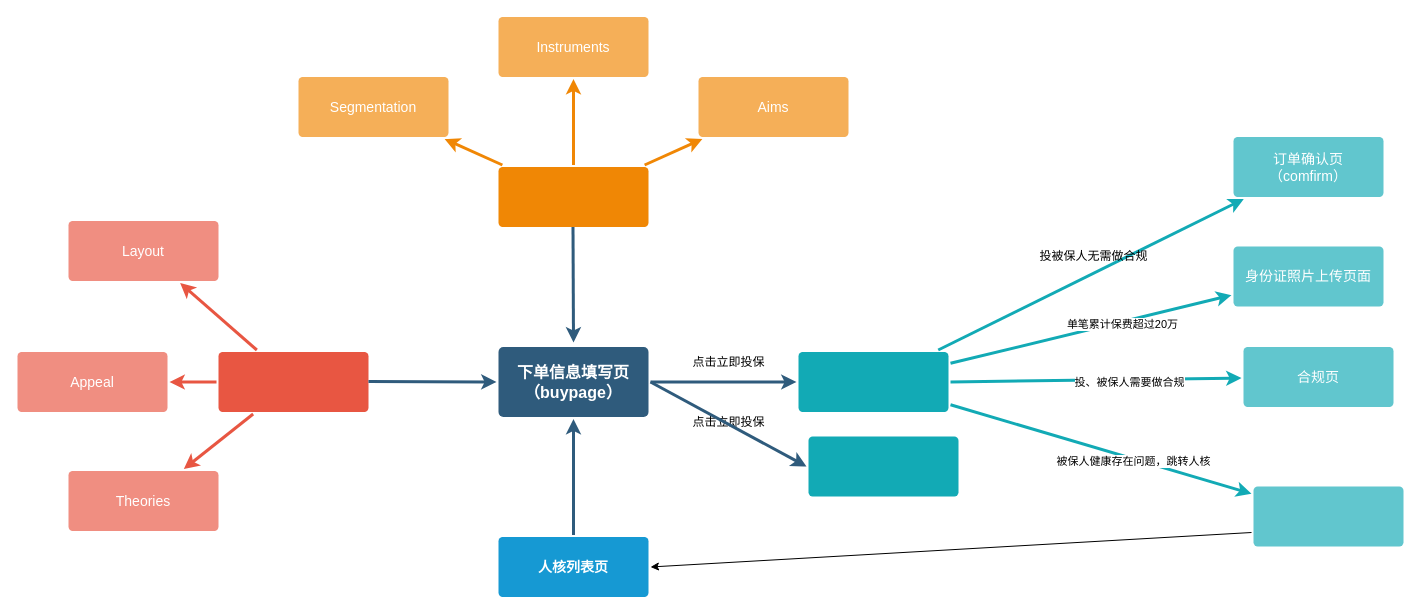
The diagram is 1420 pixels wide and 614 high, and some of its shapes have lost their labels. The centre of each missing label's shape, as x and y in pixels:
人核页面: the point at 1328,516
信息不正常: the point at 883,466
信息正常可投保: the point at 873,382
健康告知: the point at 293,382
智核结果页: the point at 573,196
